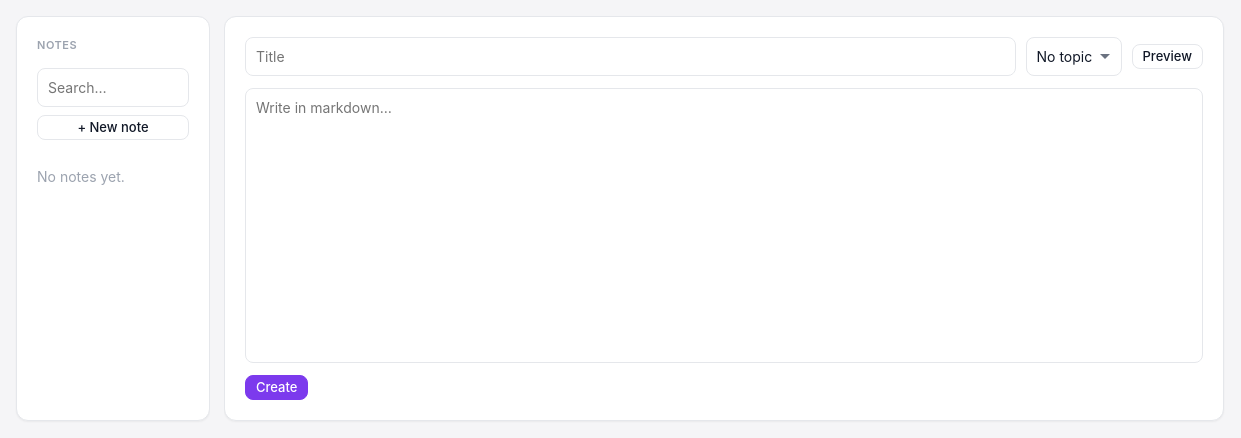
Test: Notes › searches notes and loads a result into the editor
Type "plants" into the field with placeholder "Search…". click: x=113, y=87
box: [37, 68, 189, 106]
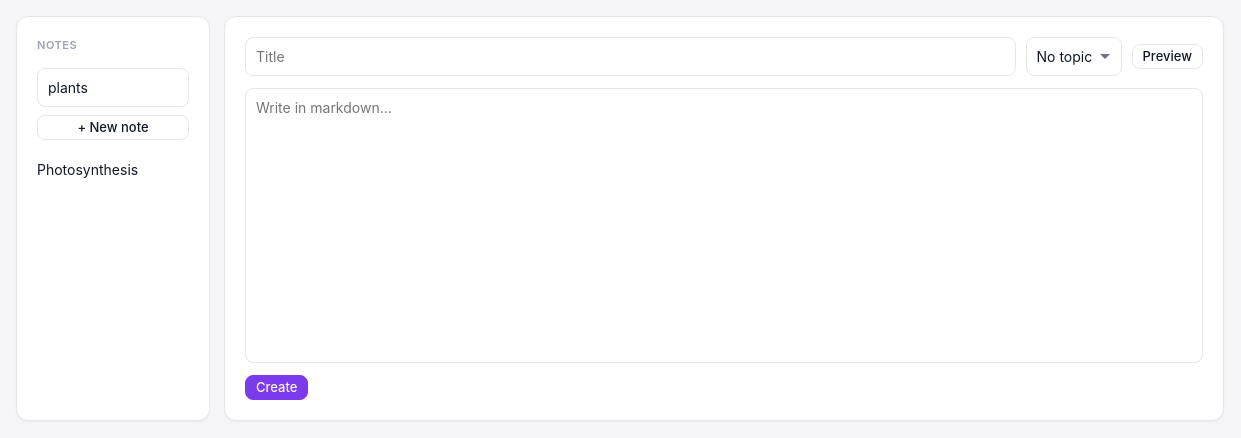
Click the button "Photosynthesis". click: x=113, y=169
box: [37, 150, 189, 188]
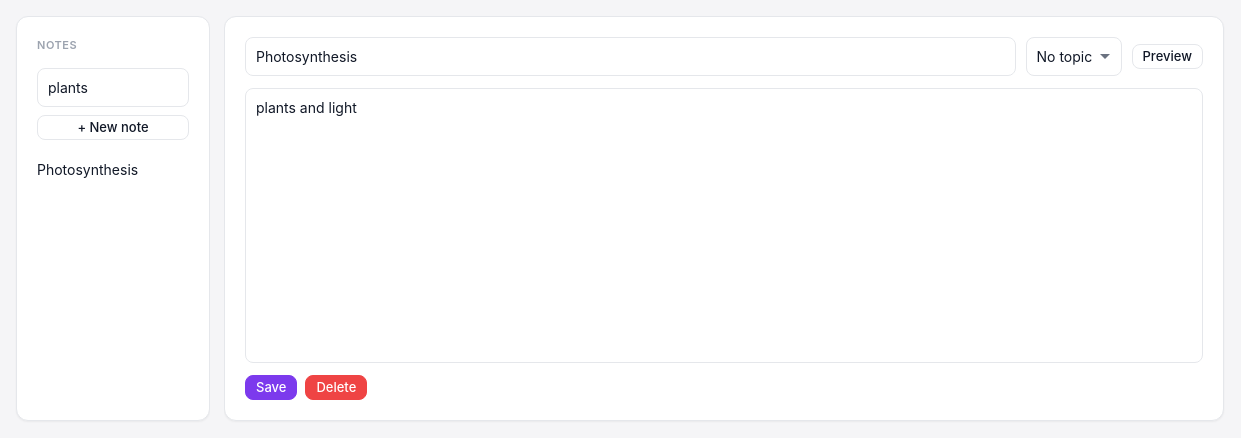
Expected: the 1st field with placeholder "Title" holds "Photosynthesis", [245, 37, 1016, 76]
